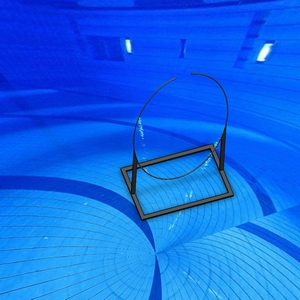circle: (119, 71, 236, 221)
